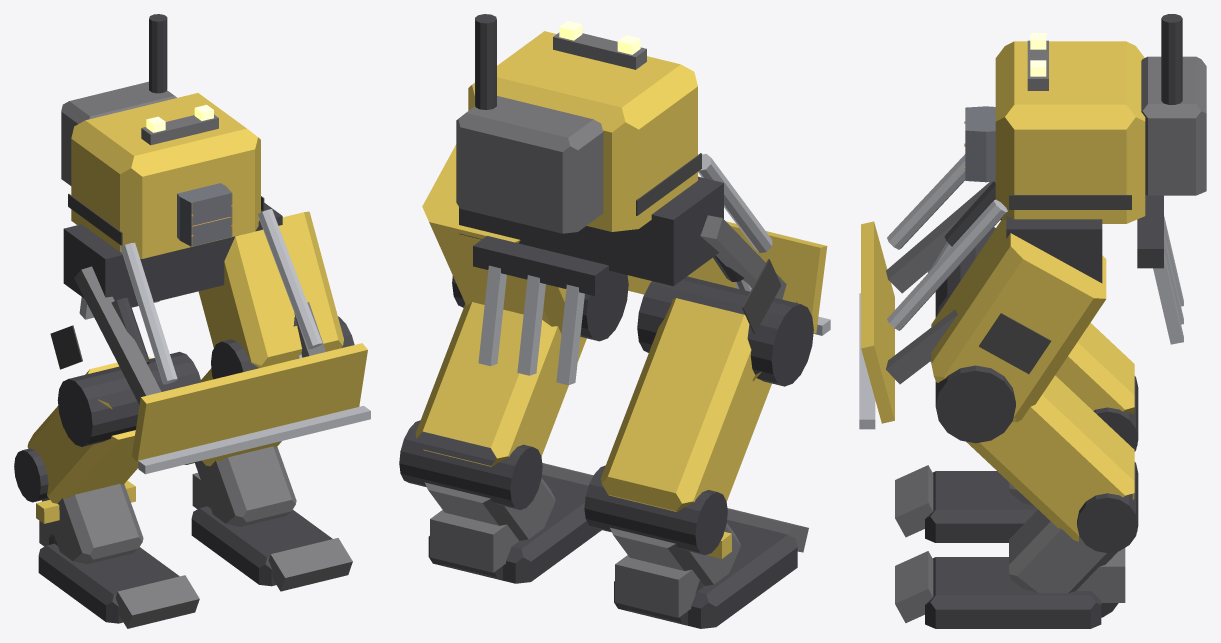
The model's file is grader.glb.
3 views of the same model, side by side, from view 1: azimuth 30°, elevation 25°; view 2: azimuth 150°, elevation 25°; view 3: azimuth 270°, elevation 25° (orthographic). The views are drawn at different scales.
Parts seen in each view (by area): view 1: torso, blade, thigh1, hips, shin-1, knee-1, meta1, meta-1, foot1_sole, foot-1_sole, blade_edge, push-1 (+15 smaller); view 2: shin-1, torso, engine, shin1, hips, knee-1, hock1, thigh1, hock-1, foot-1_sole, foot1_sole, blade (+17 smaller); view 3: torso, thigh1, shin1, foot1_sole, engine, foot-1_sole, meta1, blade, knee1, shin-1, hips, hock1 (+18 smaller).
Part boxes in pixels (x1,y1,x2,y2): torso: (71,93,260,258); blade: (132,343,367,462); thigh1: (198,211,343,367); hips: (63,203,282,307); shin-1: (27,356,151,523); knee-1: (57,351,201,446); meta1: (195,446,296,526); meta-1: (42,484,143,564); foot1_sole: (191,506,332,586); foot-1_sole: (38,543,179,623); blade_edge: (138,406,370,474); push-1: (74,266,161,404); shin-1: (600,298,771,558); torso: (468,31,697,231); engine: (456,96,603,233); shin1: (415,302,586,466); hips: (459,176,723,286); knee-1: (637,276,813,386); hock1: (399,420,542,509); thigh1: (422,144,566,333); hock-1: (584,465,727,555); foot-1_sole: (614,519,797,628); foot1_sole: (428,474,601,583); blade: (627,221,827,333); torso: (995,41,1145,223); thigh1: (931,219,1106,422); shin1: (966,375,1134,541); foot1_sole: (925,557,1101,628); engine: (1141,56,1206,195); foot-1_sole: (925,471,1037,542); meta1: (1009,509,1137,593); blade: (861,221,894,423); knee1: (935,365,1015,443); shin-1: (1055,323,1134,414); hips: (1006,216,1102,283); hock1: (1077,462,1138,553).
Bounding box in the file's own units: 13.12 × 23.35 × 13.
